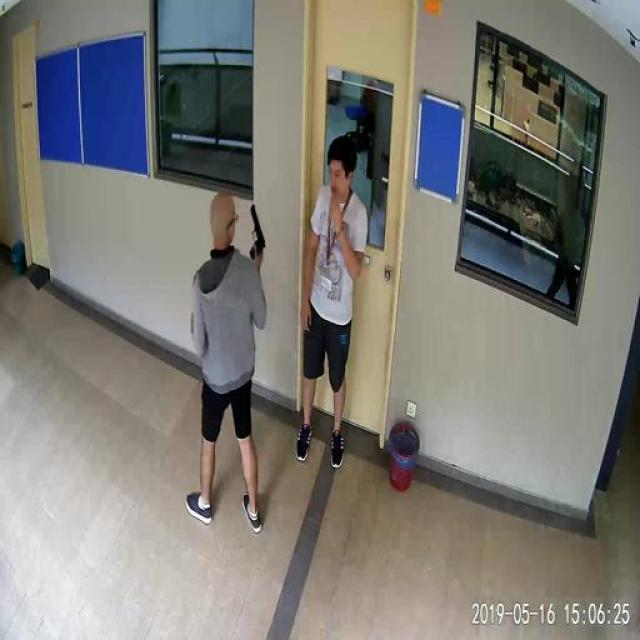Gun: (245, 205, 270, 264)
